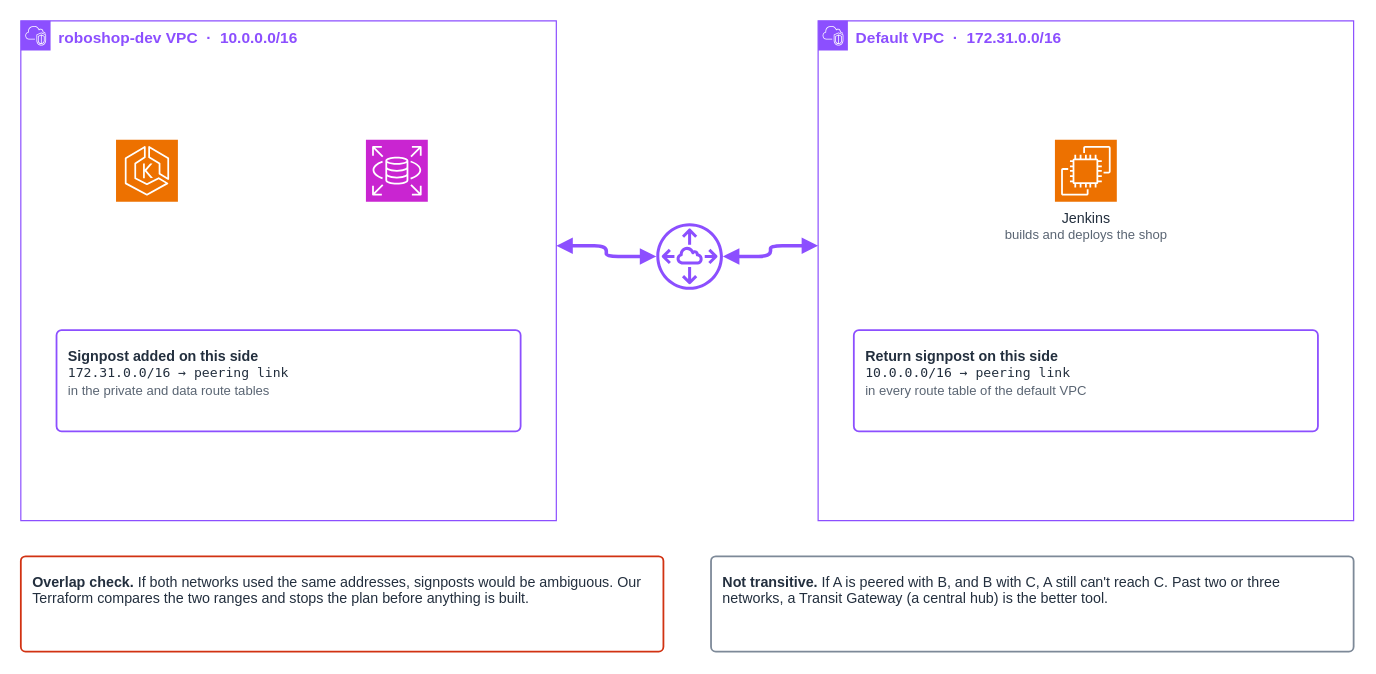
The diagram is 1376 pixels wide and 674 high, and some of its shapes have lost their labels. The centre of each missing label's shape, as x and y in pixels:
Database data subnet: [396,170]
Shop app private subnet: [146,170]
VPC peering private bridge, names resolve both ways: [689,256]
